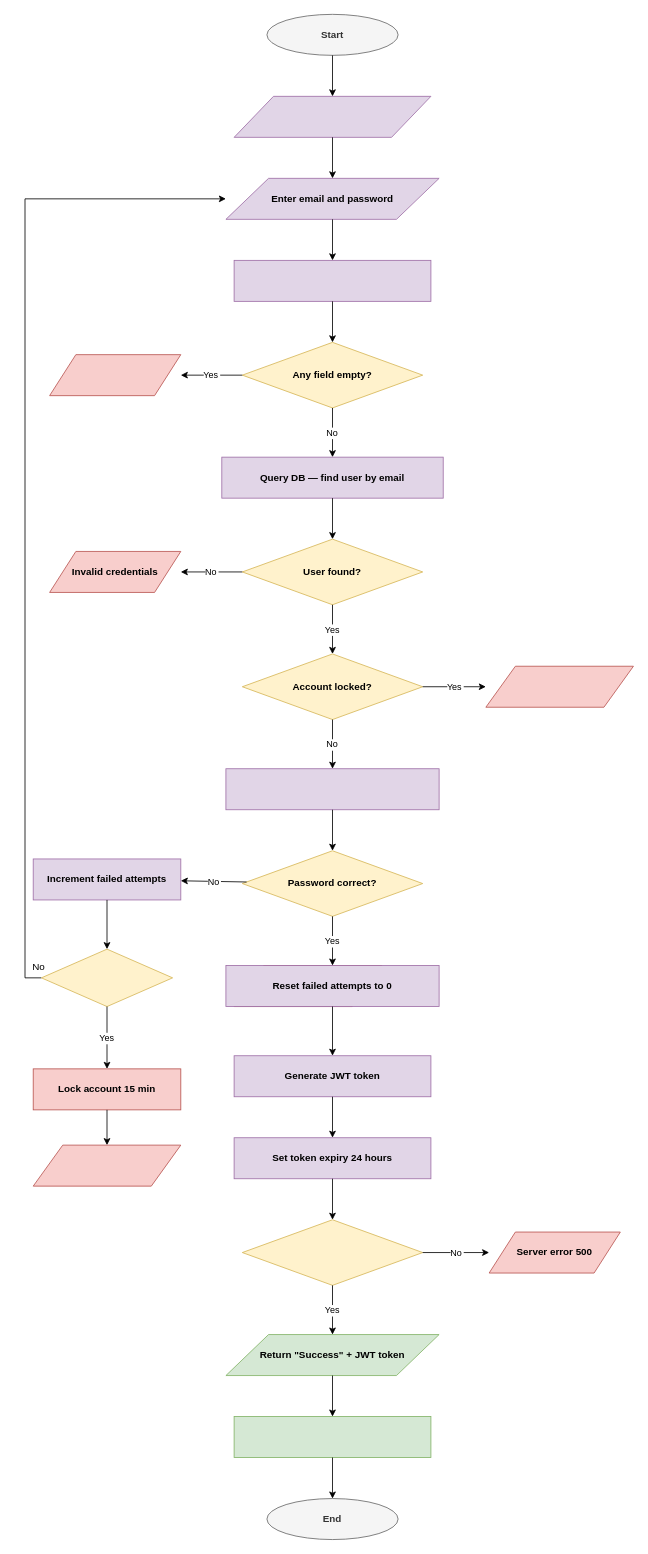
This 648x1554 diagram has some shape labels left out. The shapes that lost their labels are listed below. From the top down, each one's box as (x1, y1, x2, y2) in pixels, then its label:
(233, 96, 431, 137): User opens login page
(233, 260, 431, 301): Check for empty fields
(49, 354, 181, 396): All fields required
(485, 665, 633, 707): Locked — try in 15 min
(225, 768, 439, 810): BCrypt compare password
(41, 948, 173, 1007): Attempts = 5?
(32, 1144, 181, 1186): Account locked error
(241, 1219, 423, 1285): DB update success?
(233, 1416, 431, 1458): Redirect to dashboard
